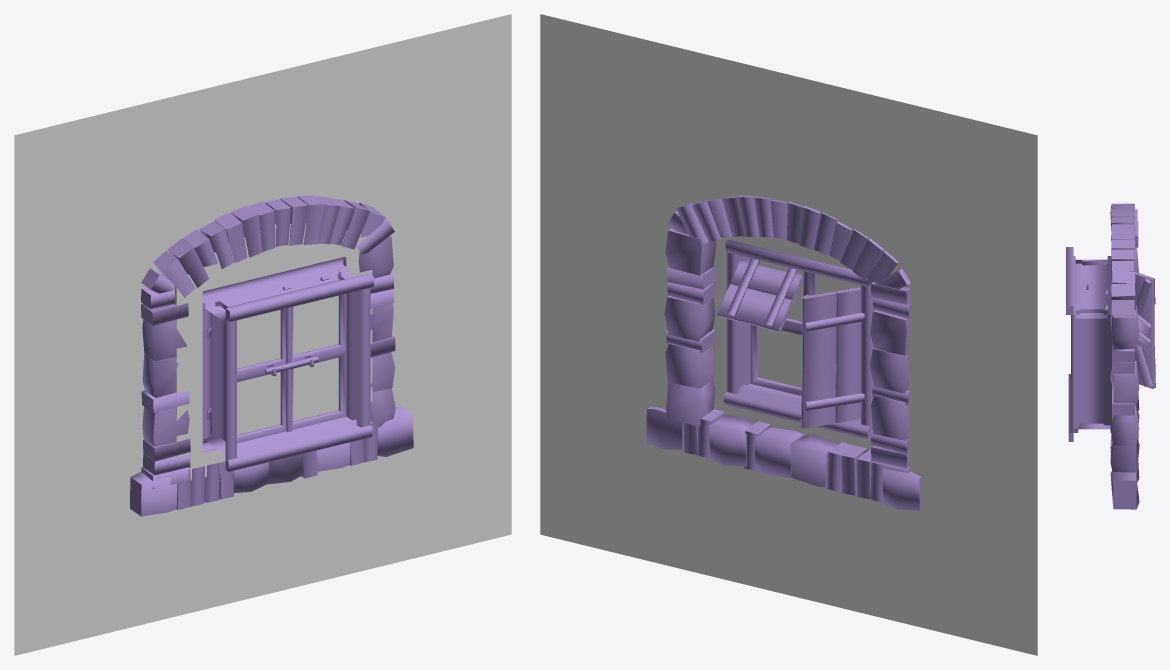
The model's file is window_c_outside_variant_a.fbx.
The picture shows the model from 3 angles, left to right: view 1: azimuth 30°, elevation 25°; view 2: azimuth 150°, elevation 25°; view 3: azimuth 270°, elevation 25°; orthographic projection. The views are drawn at different scales.
Visible parts, largest first — view 1: Plane.028, Plane.026, Plane.025; view 2: Plane.028, Plane.026, Plane.032, Plane.029, Plane.025; view 3: Plane.026, Plane.032, Plane.029.
Part boxes in pixels (<box>): Plane.028: <box>14,14,511,655</box>; Plane.026: <box>130,195,413,516</box>; Plane.025: <box>237,295,338,434</box>; Plane.028: <box>540,14,1037,655</box>; Plane.026: <box>646,195,921,510</box>; Plane.032: <box>799,287,864,428</box>; Plane.029: <box>717,258,803,332</box>; Plane.025: <box>758,260,860,387</box>; Plane.026: <box>1066,203,1139,509</box>; Plane.032: <box>1135,272,1155,388</box>; Plane.029: <box>1104,289,1150,351</box>.
Bounding box in the file's own units: 5 × 5 × 0.9307.
